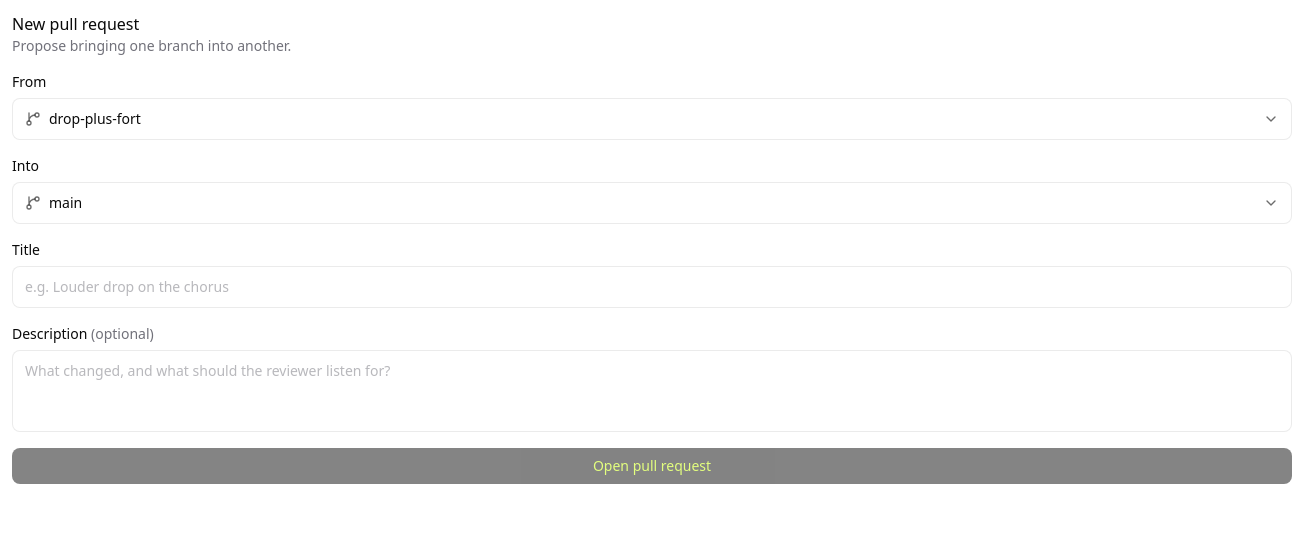
Test: NewPullRequestForm › targets main by default and cannot be sent while source and target are the same
Type "Louder drop" into the field labelled "Title" at (652, 287), box 12,266 -> 1292,308
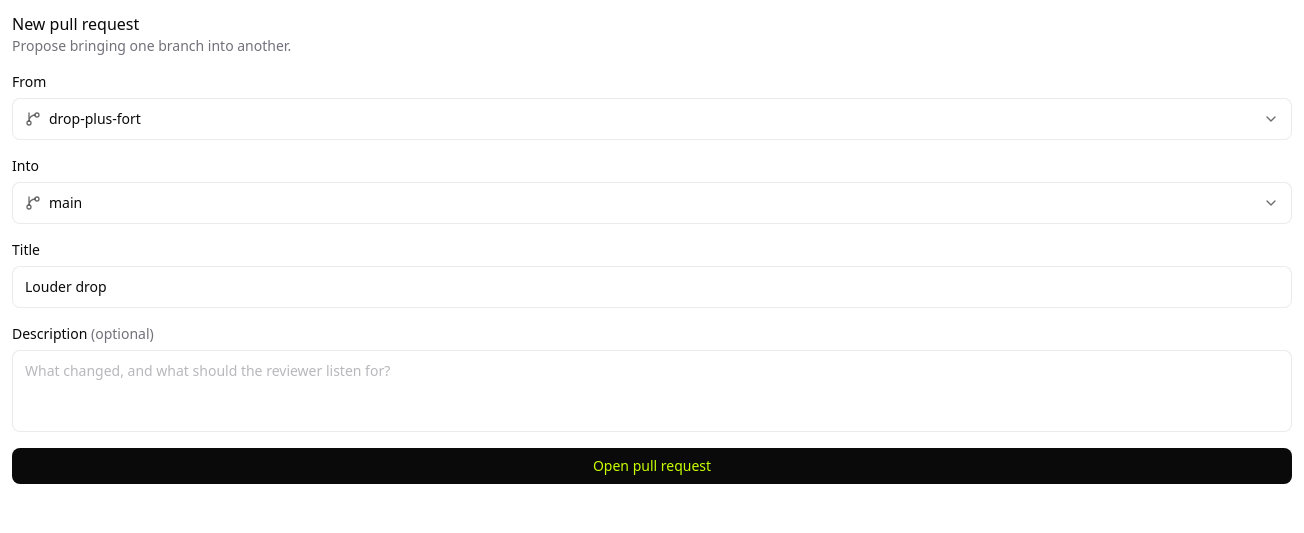
Expected: the button named "Into" reads "main", 12,182 -> 1292,224
Now the button "Open pull request" is enabled, box 12,448 -> 1292,484
Click the button named "From" at (95, 118), box 12,98 -> 1292,140
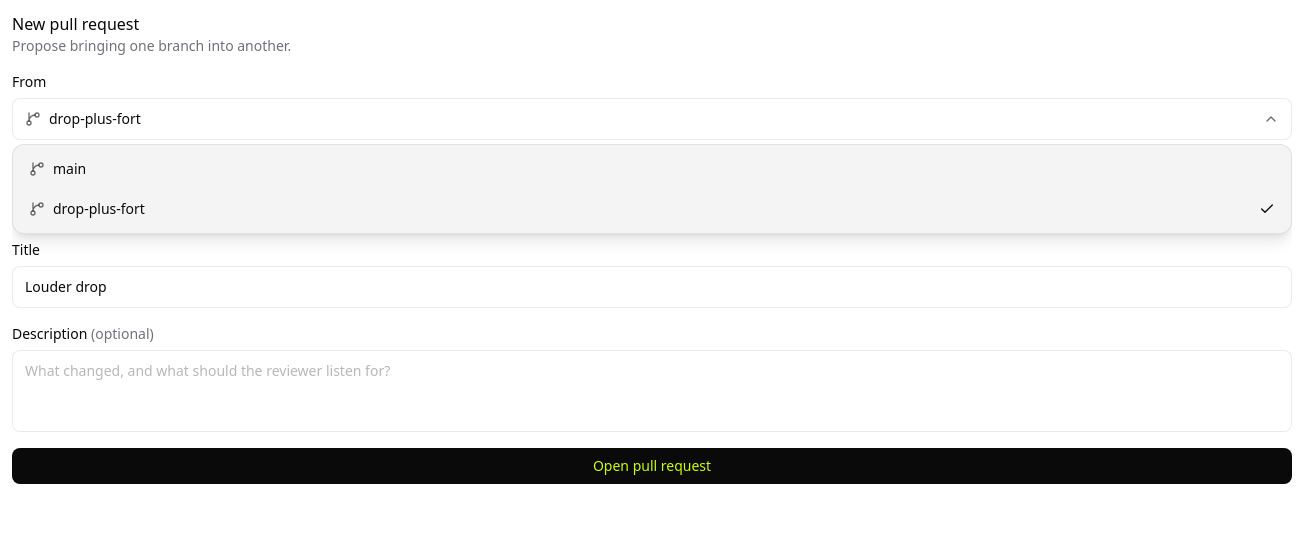
Click the option "main" at (58, 168), box 29,159 -> 86,178
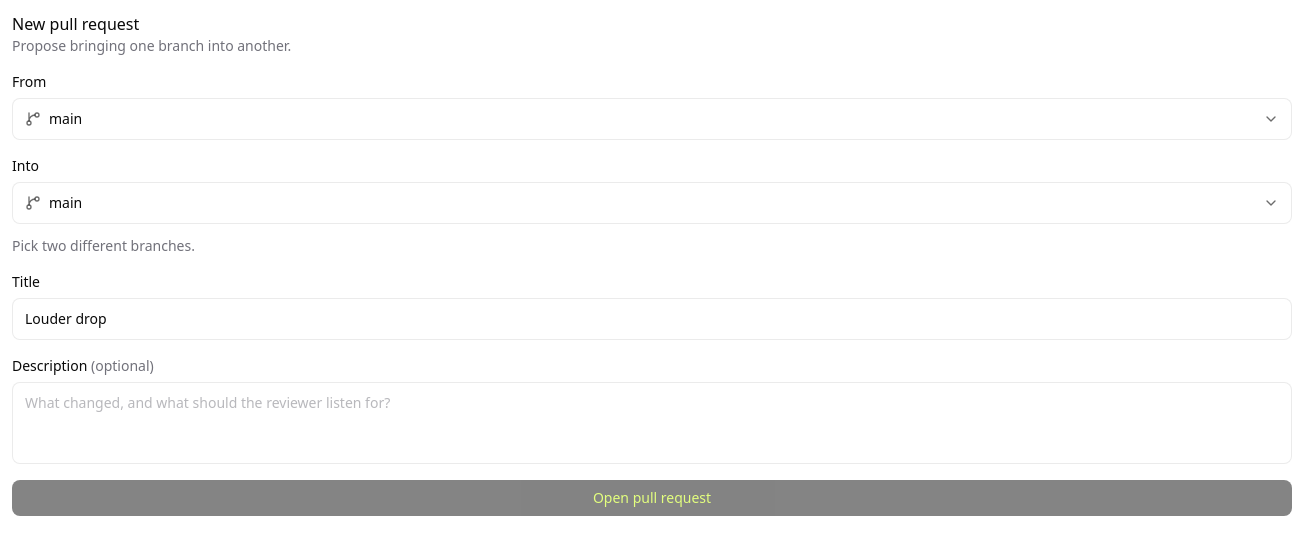
Now the button "Open pull request" is disabled, box 12,480 -> 1292,516
